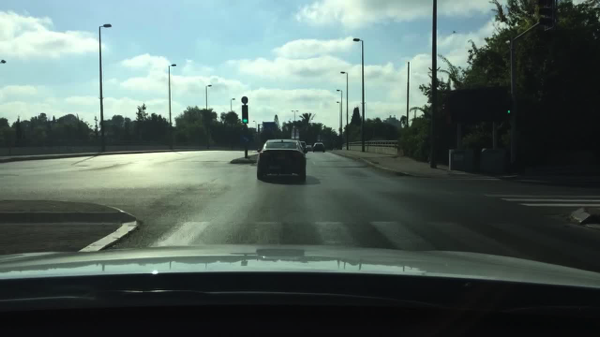car: (255, 140, 307, 182), (313, 142, 324, 153), (301, 141, 308, 154), (307, 144, 311, 151)
traffic light: (537, 0, 554, 32), (242, 105, 250, 125), (503, 102, 512, 117)
traffic sign: (242, 96, 249, 105)
